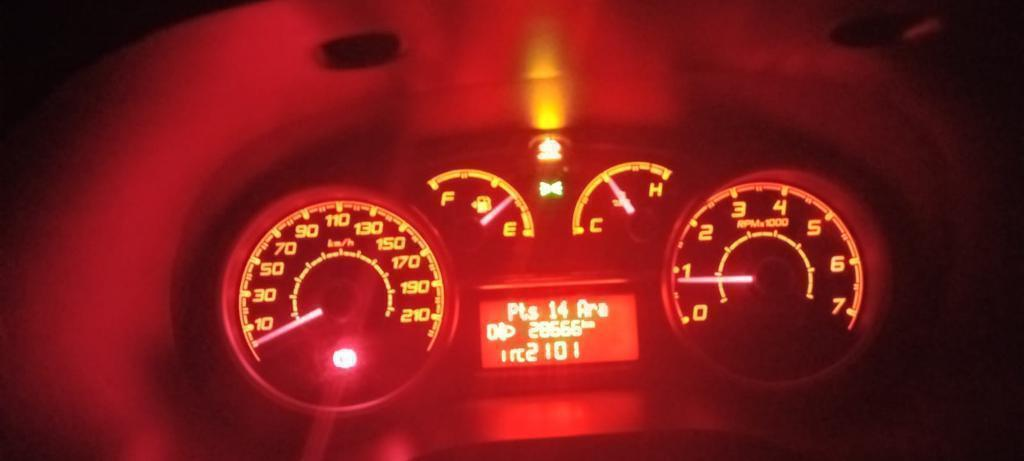0: (554, 339, 567, 360), (486, 321, 497, 340)
1: (548, 296, 558, 320), (543, 341, 552, 363), (573, 340, 581, 358), (499, 347, 507, 363), (509, 347, 515, 363)
2: (526, 341, 539, 362), (527, 321, 538, 339)
4: (558, 297, 570, 318)
6: (560, 319, 571, 337), (571, 319, 581, 336), (550, 320, 559, 337)
8: (539, 320, 549, 338)
X: (576, 297, 588, 317), (506, 300, 517, 320), (518, 300, 528, 319), (528, 303, 539, 319), (598, 301, 609, 317), (516, 346, 525, 363), (588, 302, 597, 317)
odometer: (477, 292, 641, 365)
